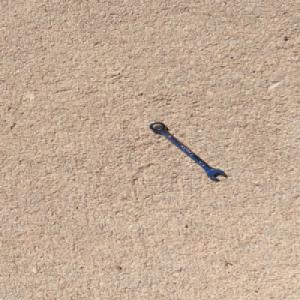Wrench: (146, 120, 228, 181)
